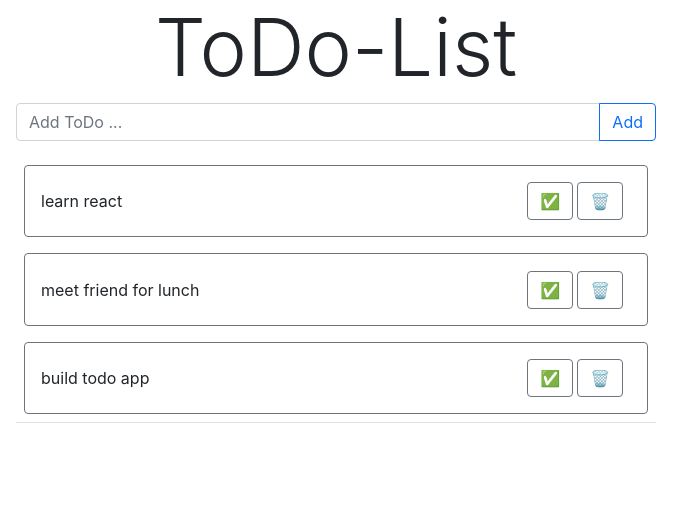
Test case: add items to list
The image size is (673, 529).
Type "wash car" into the field with placeholder "Add ToDo ..." at point(308, 122), box [16,103,600,141]
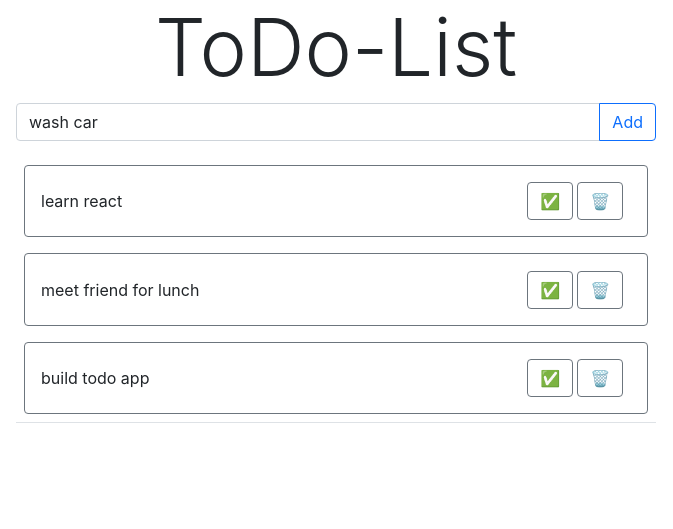
Click the button with test id "todo-input-button" at point(628, 122), box [599,103,656,141]
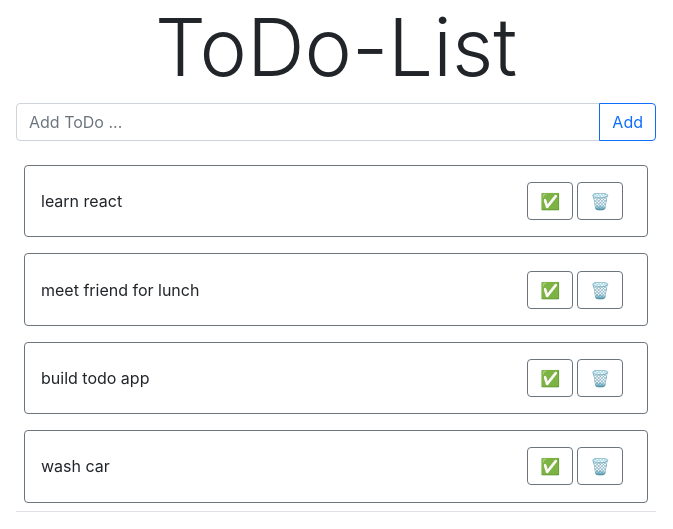
Check: the list item "wash car" is shown, box [41,456,110,476]
